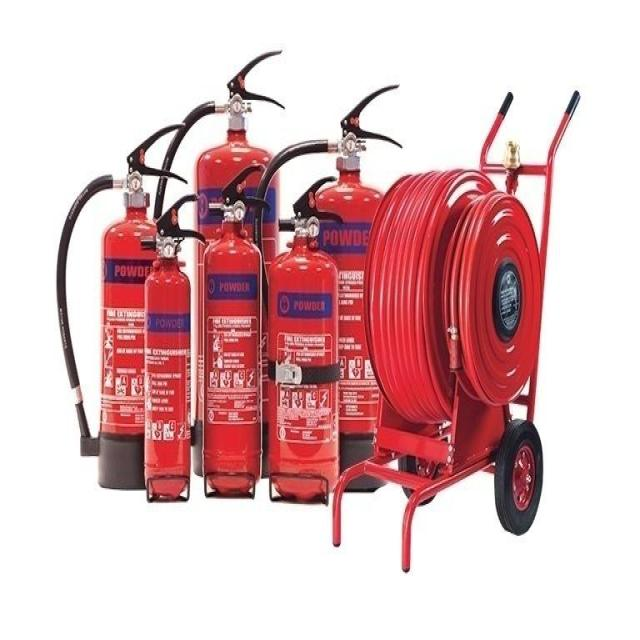fire_extinguisher: (246, 77, 410, 500), (143, 42, 290, 483), (51, 116, 194, 492), (266, 173, 346, 507), (199, 159, 271, 502), (137, 188, 206, 504)
